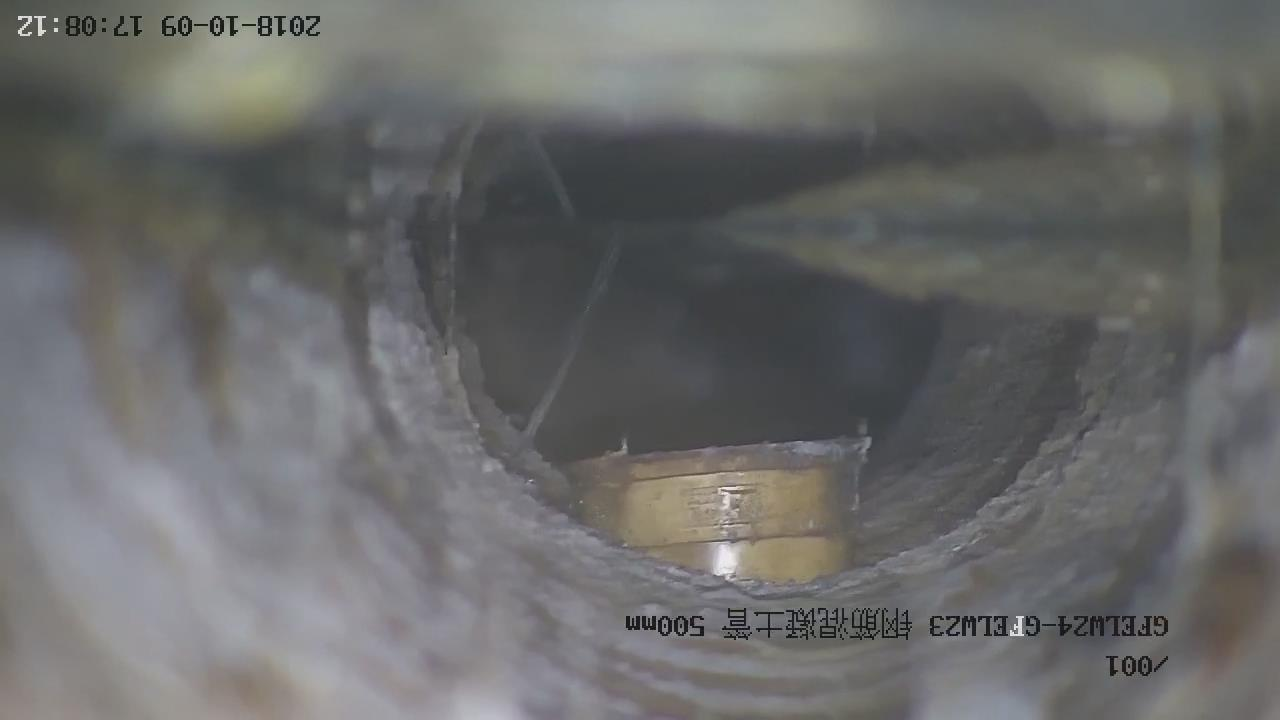SL: (492, 230, 642, 455)
ZGAJ: (564, 437, 869, 584)
